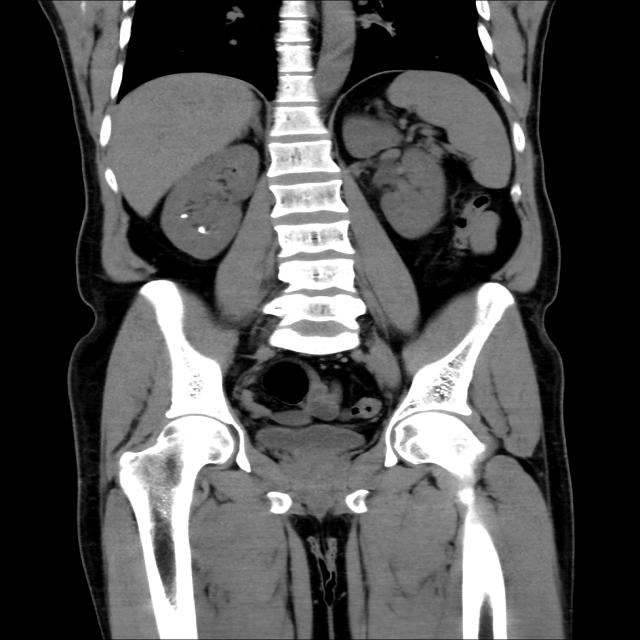kidneystone: (198, 226, 206, 234)
